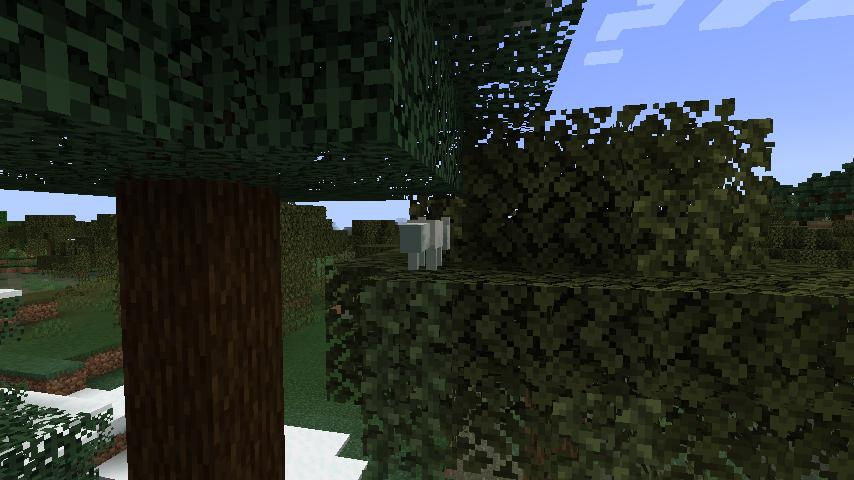fox: (395, 209, 458, 277)
